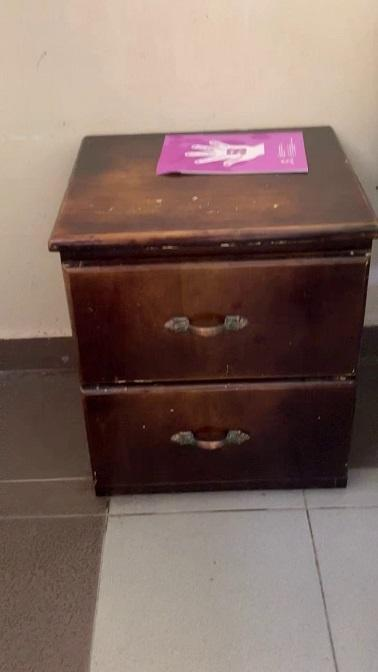cabinet_door: (80, 265, 360, 382), (85, 385, 351, 490)
handle: (163, 304, 248, 347), (170, 422, 252, 463)
